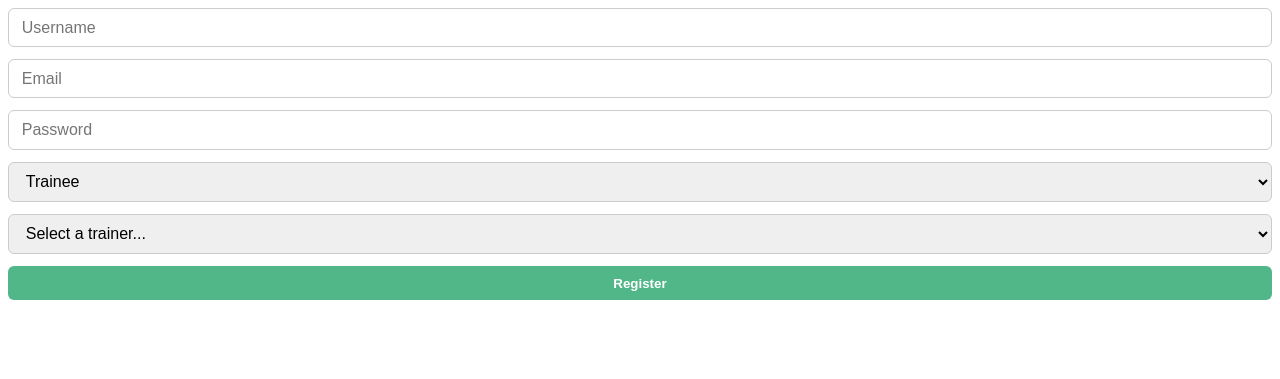
it: RegisterForm › server-rejected submit: shows the server's error message
Type "taken" into the field with placeholder "Username".
click(640, 28); type("taken")  # box [8,8,1272,47]
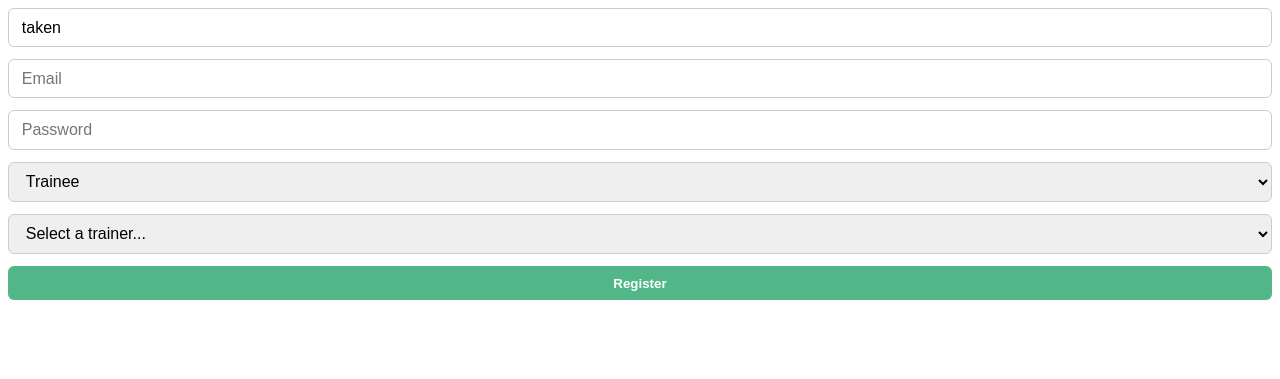
Type "taken@example.com" into the field with placeholder "Email".
click(640, 79); type("taken@example.com")  # box [8,59,1272,98]
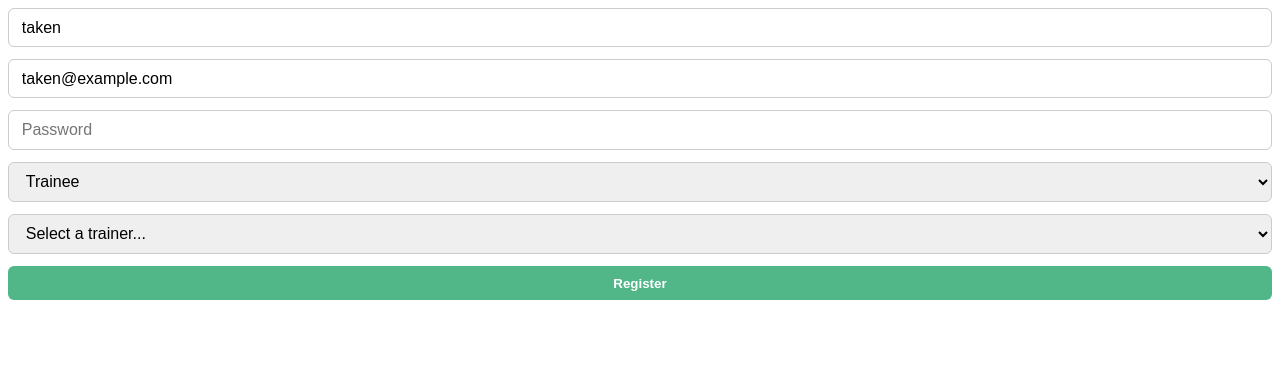
Type "supersecret" into the password field with placeholder "Password".
click(640, 130); type("supersecret")  # box [8,110,1272,150]
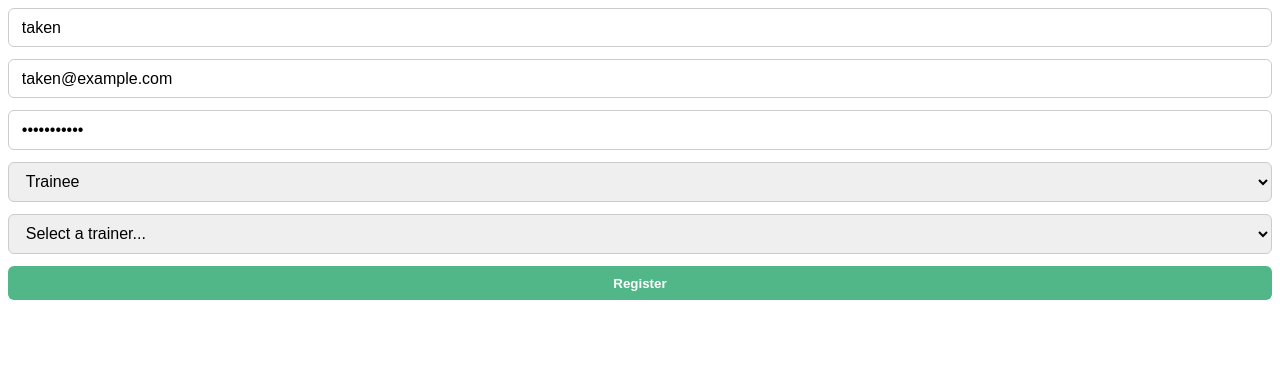
Select "coach_amina" in the dropdown showing "Select a trainer..." at (640, 234), box [8,214,1272,254]
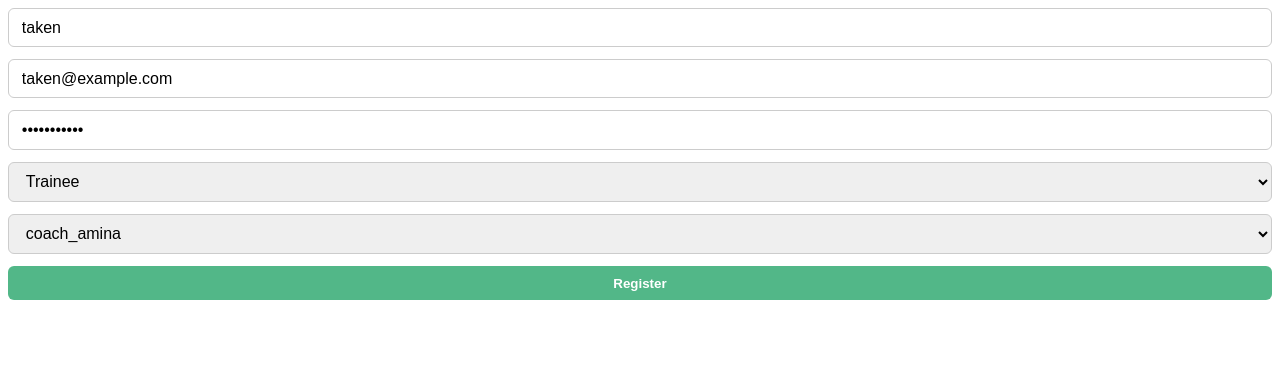
Click the button "Register".
click(640, 283)  # box [8,266,1272,300]
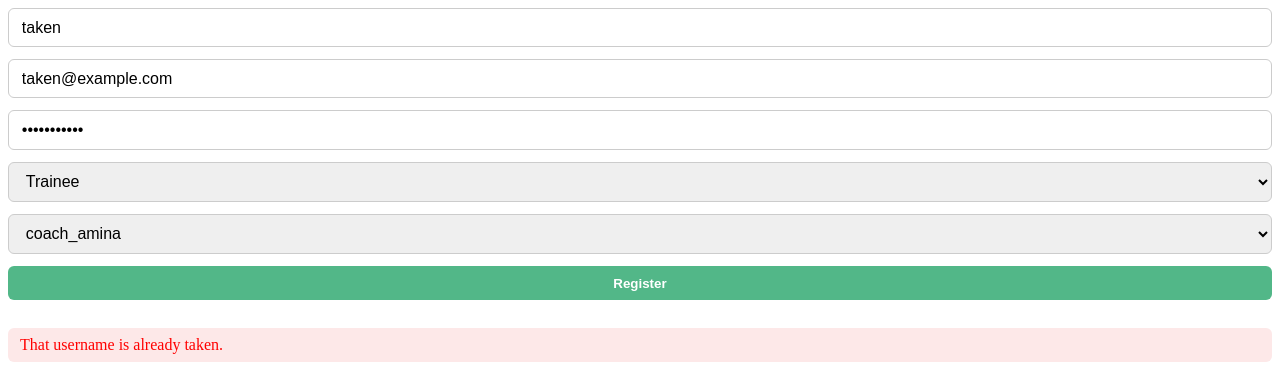
Expected: the text "That username is already taken." is shown, [8,328,1272,362]
